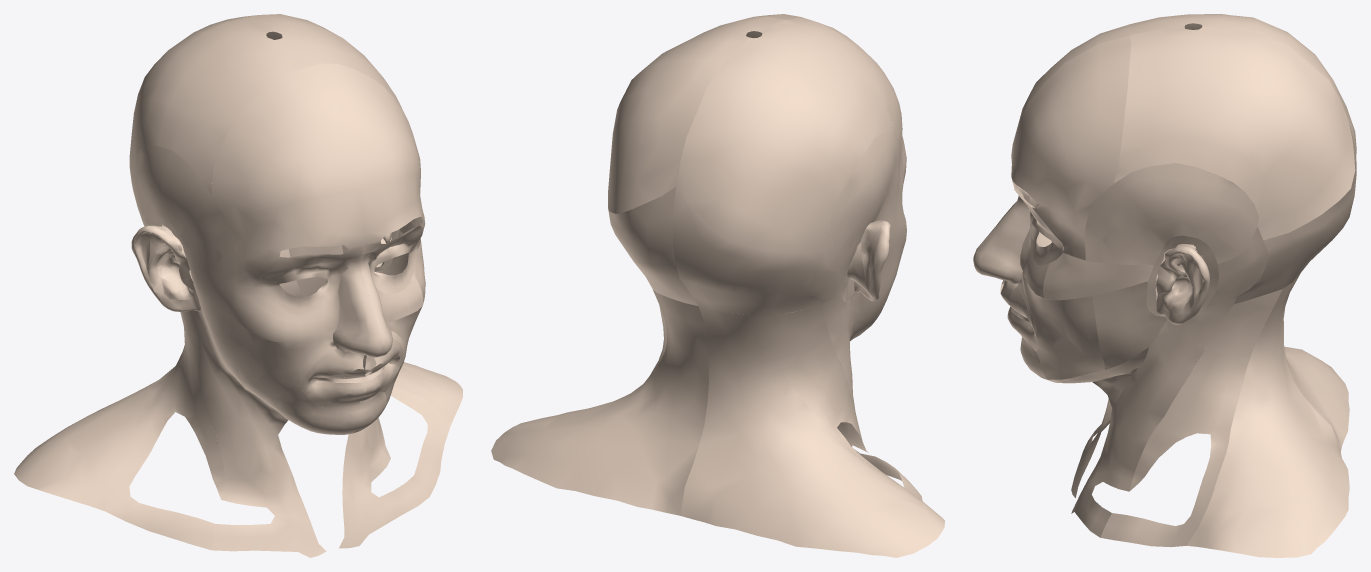
File: lod1-head-skin.glb
The picture shows the model from 3 angles, left to right: view 1: azimuth 30°, elevation 25°; view 2: azimuth 150°, elevation 25°; view 3: azimuth 270°, elevation 25°; orthographic projection.
Visible parts, largest first — view 1: part::Frontal region.r, part::Parietal region.r, part::Sternocleidomastoid region.r, part::Frontal region.l, part::Posterior region of neck.r, part::Lateral region of neck.r, part::Temporal region.r, part::Sternocleidomastoid region.l, part::Buccal region.r, part::Parietal region.l, part::Orbital region.r, part::Lateral region of neck.l (+16 smaller); view 2: part::Parietal region.r, part::Posterior region of neck.r, part::Posterior region of neck.l, part::Parietal region.l, part::Occipital region.r, part::Lateral region of neck.r, part::Temporal region.r, part::Occipital region.l, part::Sternocleidomastoid region.r, part::Frontal region.r, part::Mastoid region.r, part::Parotideomasseteric region.r (+2 smaller); view 3: part::Parietal region.l, part::Posterior region of neck.l, part::Frontal region.l, part::Temporal region.l, part::Lateral region of neck.l, part::Sternocleidomastoid region.l, part::Buccal region.l, part::Occipital region.l, part::Parotideomasseteric region.l, part::Zygomatic region.l, part::Posterior region of neck.r, part::Parietal region.r (+12 smaller).
Part boxes in pixels (x1,y1,x2,y2): part::Frontal region.r: (211,67,364,288); part::Parietal region.r: (129,19,305,196); part::Sternocleidomastoid region.r: (180,310,326,557); part::Frontal region.l: (306,63,425,254); part::Posterior region of neck.r: (14,241,193,511); part::Lateral region of neck.r: (105,326,225,550); part::Temporal region.r: (134,146,236,283); part::Sternocleidomastoid region.l: (339,245,429,548); part::Buccal region.r: (230,317,332,430); part::Parietal region.l: (229,14,403,111); part::Orbital region.r: (259,254,349,315); part::Lateral region of neck.l: (288,245,449,496); part::Parietal region.r: (676,20,896,252); part::Posterior region of neck.r: (680,306,944,557); part::Posterior region of neck.l: (491,289,708,515); part::Parietal region.l: (608,16,785,213); part::Occipital region.r: (672,187,823,316); part::Lateral region of neck.r: (766,307,922,500); part::Temporal region.r: (830,132,902,255); part::Occipital region.l: (608,186,697,305); part::Sternocleidomastoid region.r: (820,297,901,480); part::Frontal region.r: (787,17,906,201); part::Mastoid region.r: (809,232,848,299); part::Parotideomasseteric region.r: (852,245,899,329); part::Parietal region.l: (1114,26,1355,240); part::Posterior region of neck.l: (1187,273,1349,557); part::Frontal region.l: (1011,35,1131,260); part::Temporal region.l: (1084,163,1258,265); part::Lateral region of neck.l: (1100,289,1282,547); part::Sternocleidomastoid region.l: (1071,297,1236,537); part::Buccal region.l: (1022,276,1104,379); part::Occipital region.l: (1234,124,1356,303); part::Parotideomasseteric region.l: (1092,281,1166,369); part::Zygomatic region.l: (1042,253,1153,300); part::Posterior region of neck.r: (1284,346,1349,451); part::Parietal region.r: (1130,14,1354,129).
Size of the model in its own units: 0.2915 by 0.3071 by 0.2241.
